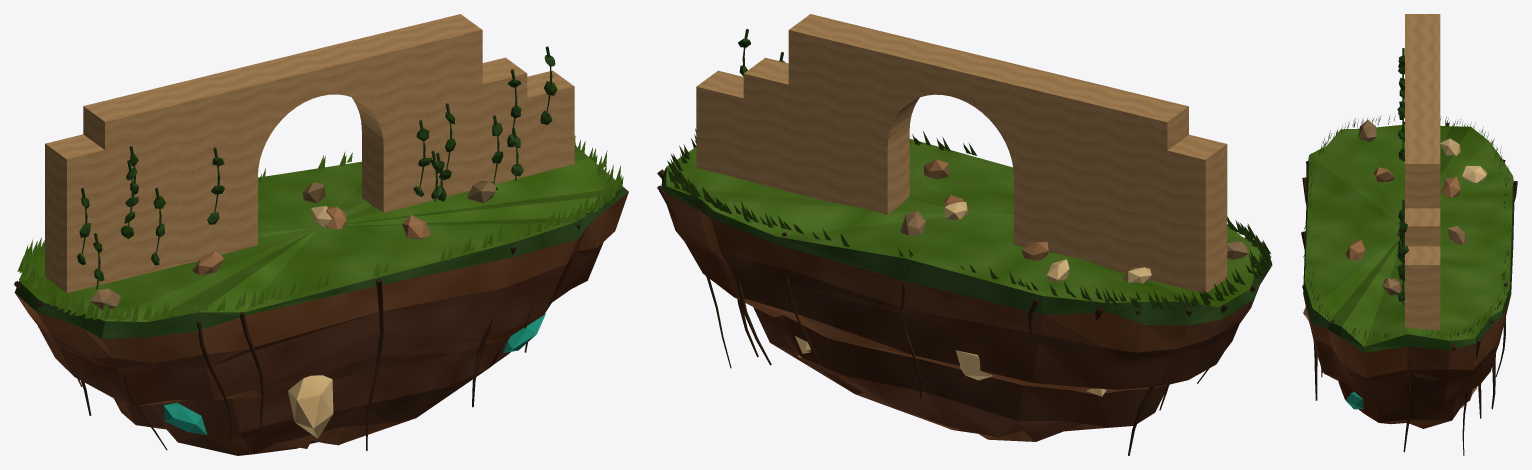
The model's file is floating_earth_wall.obj.
3 views of the same model, side by side, from view 1: azimuth 30°, elevation 25°; view 2: azimuth 150°, elevation 25°; view 3: azimuth 270°, elevation 25° (orthographic). The views are drawn at different scales.
Visible parts, largest first — view 1: FloatingEarthWall; view 2: FloatingEarthWall; view 3: FloatingEarthWall.
Part boxes in pixels (x1,y1,x2,y2): FloatingEarthWall: (14,14,628,455); FloatingEarthWall: (657,14,1272,455); FloatingEarthWall: (1301,14,1517,455).
Size of the model in its own units: 12.62 by 7.99 by 5.13.
